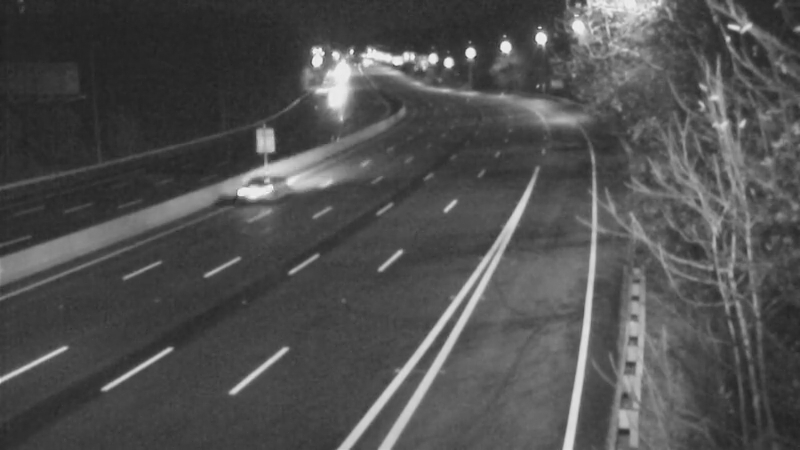vehicle: (224, 151, 304, 231)
